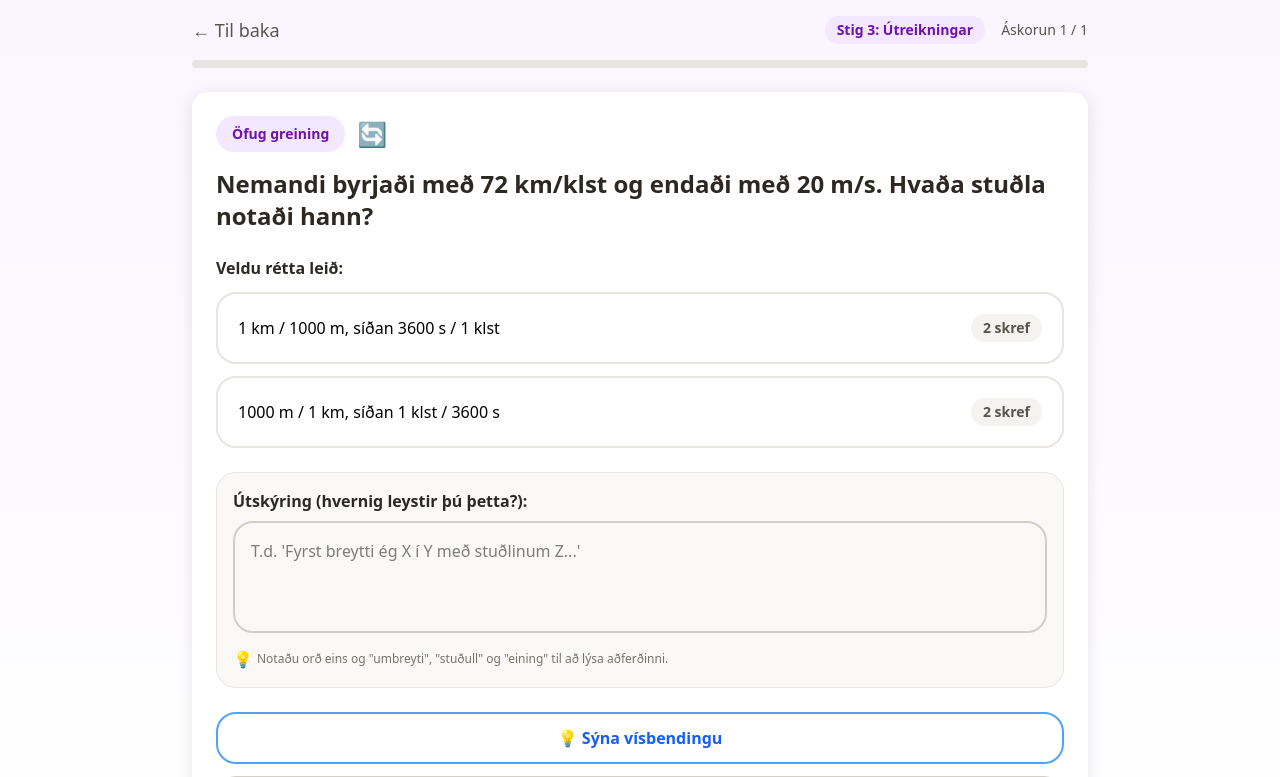
the submit button asks for what the item grades › a reverse item is answered by its route: no number to type, and the route is required
The width and height of the screenshot is (1280, 777).
Type "Ég umbreytti einingunum skref fyrir skref með stuðlum." into the text box labelled "Útskýring (hvernig leystir þú þetta?):" at (640, 577), box [233,521,1047,633]
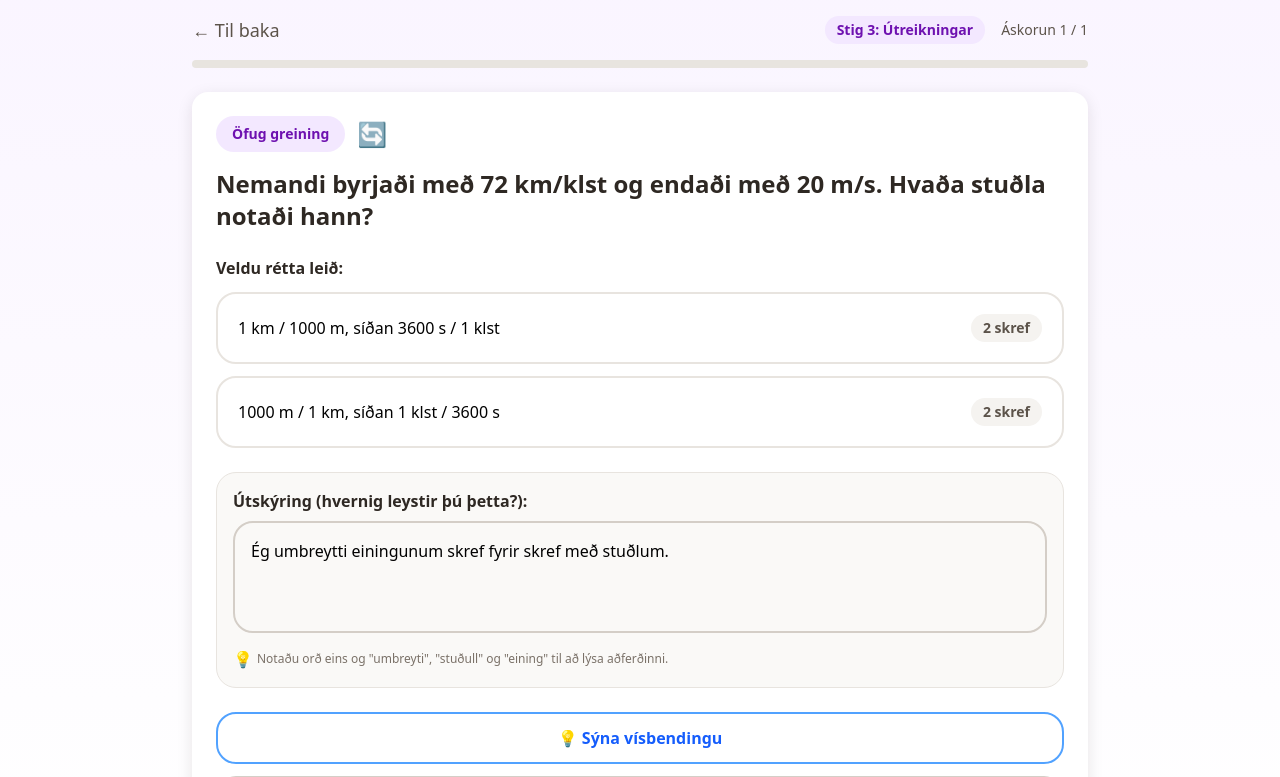
Click the button "1 km / 1000 m, síðan 3600 s / 1 klst 2 skref" at (369, 328), box [216,292,1064,364]
(page scrolled)
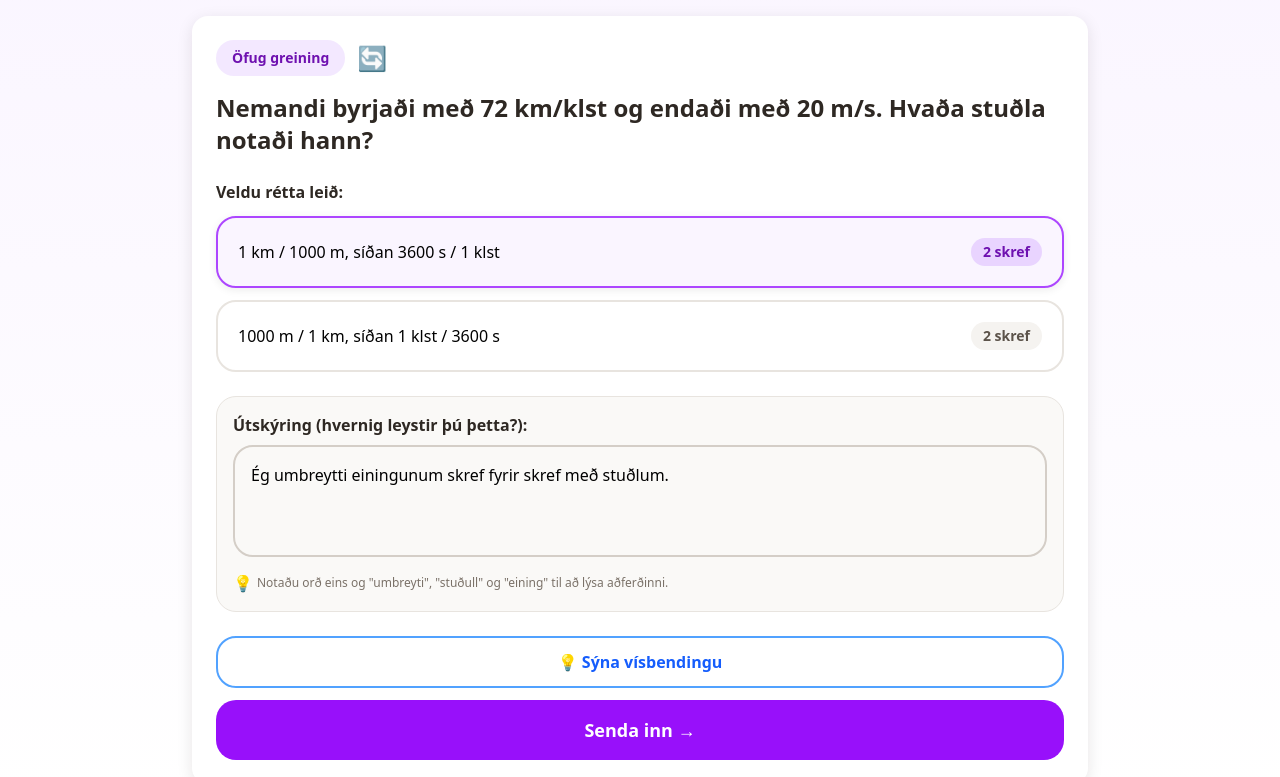
Check: the button "Senda inn →" is enabled, box [216,700,1064,760]
